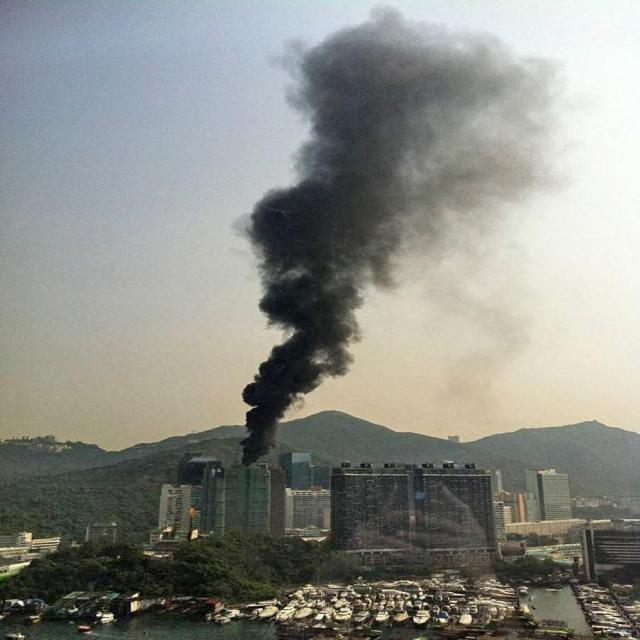smoke: (234, 7, 570, 465)
